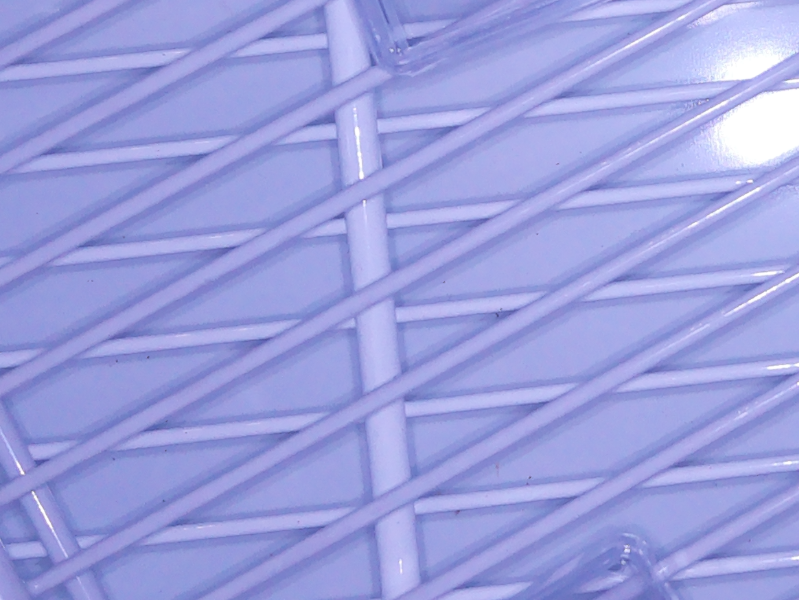plate: (345, 1, 610, 82), (515, 530, 696, 600)
